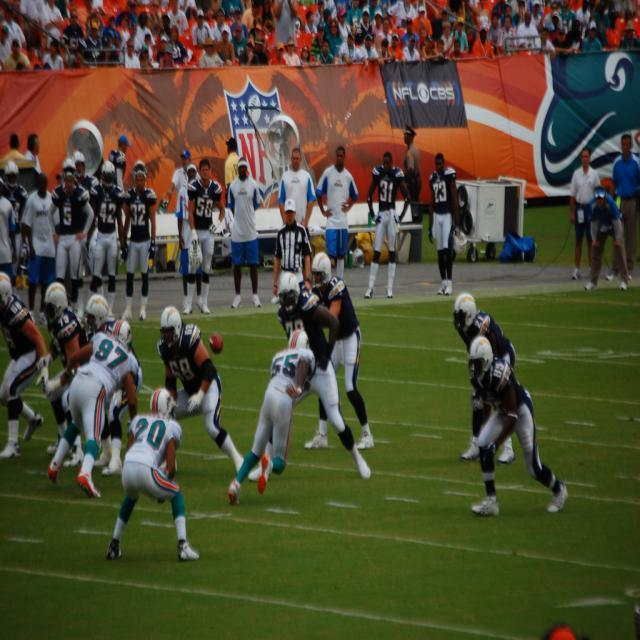ball: (208, 331, 224, 352)
